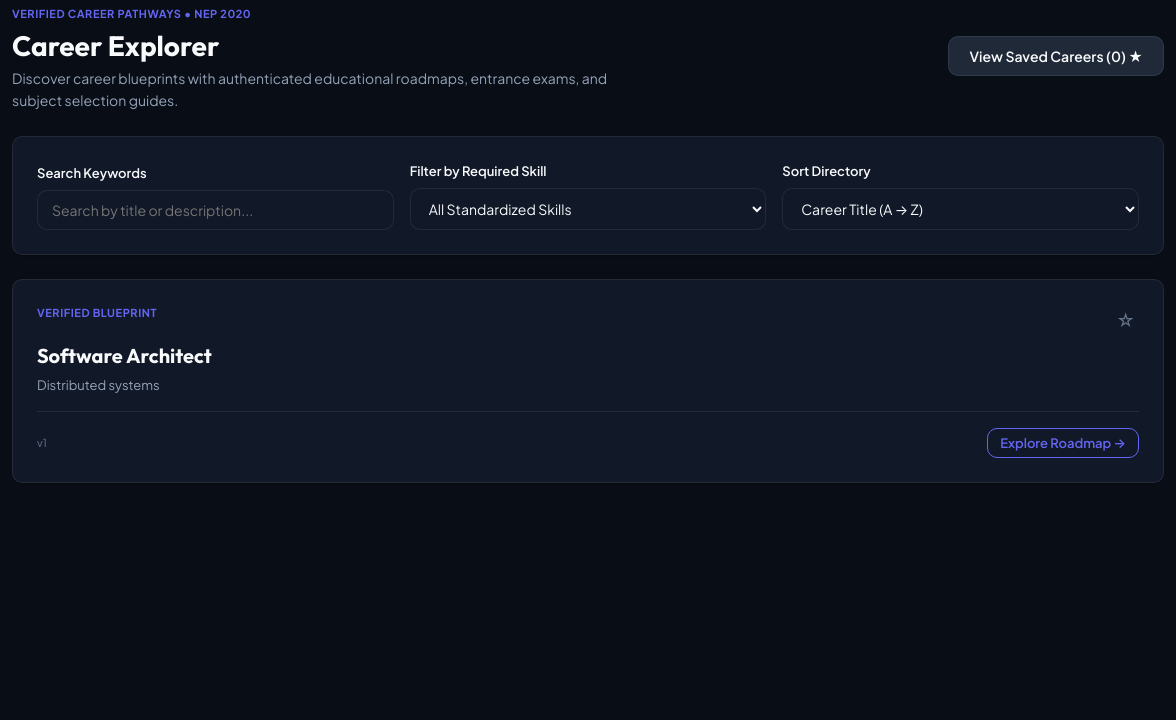
Scenario: Career Explorer & Details (CareerExplorerPage, CareerDetailPage, SavedCareersPage) › CareerExplorerPage › combines keyword search with skill filter and sends both to the API
Select "Python" in the dropdown labelled "Filter by Required Skill" at (588, 209), box [410, 188, 766, 230]
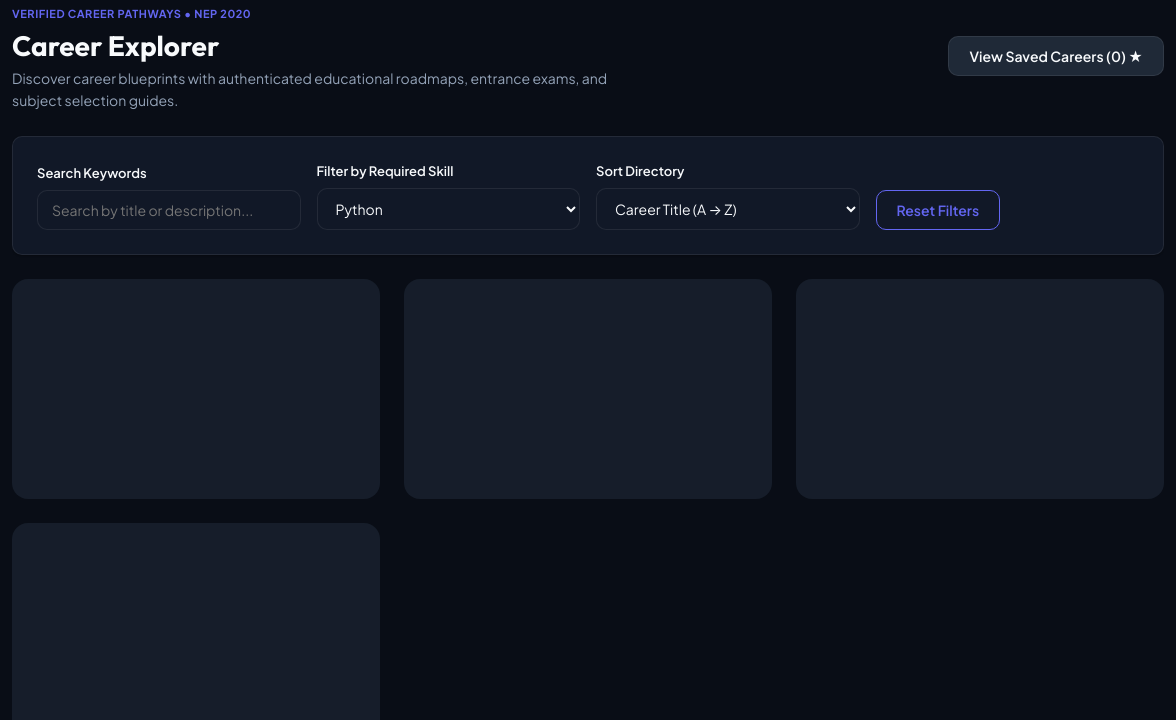
Type "Architect" into the field labelled "Search Keywords" at (169, 210), box [37, 190, 300, 230]
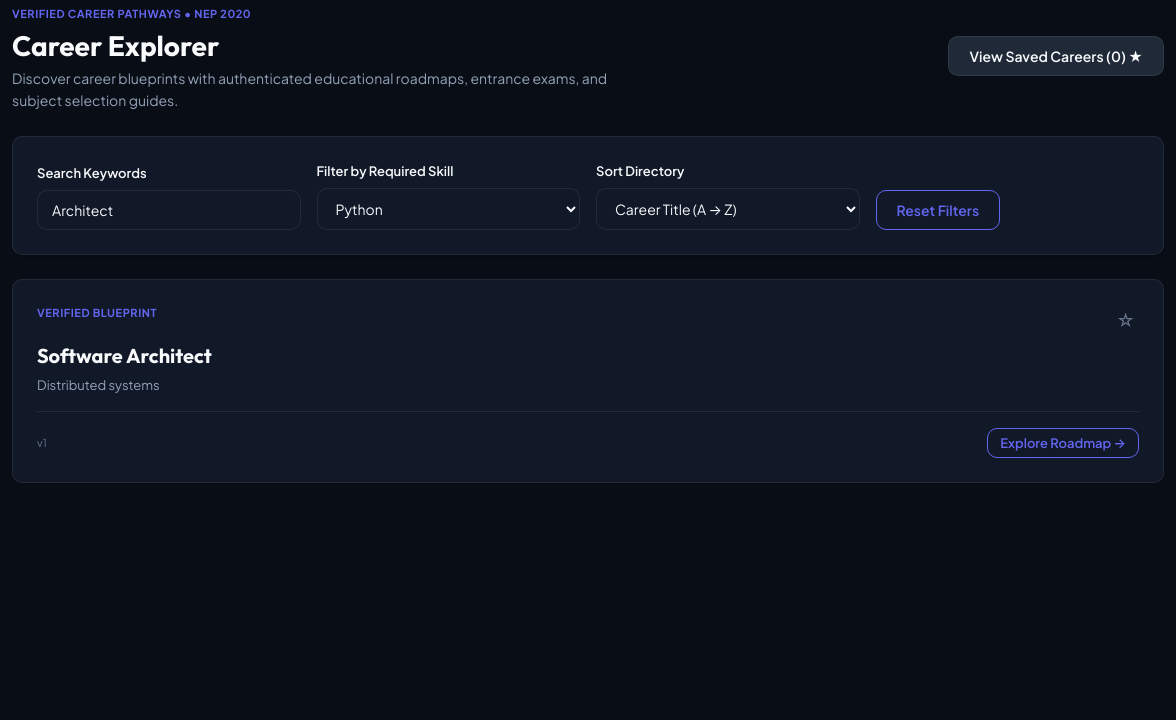
Check: the heading "Software Architect" is shown, box [37, 343, 212, 368]
